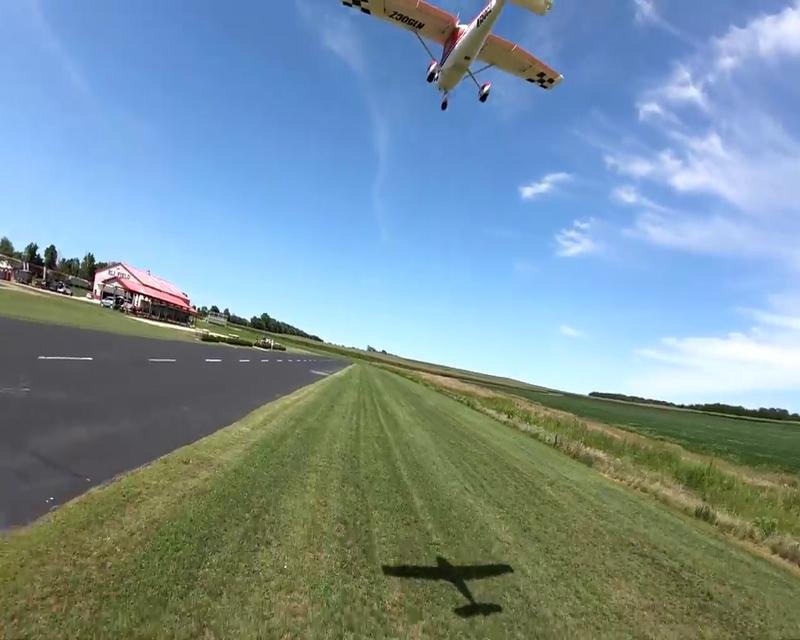UAV: (340, 0, 564, 111)
